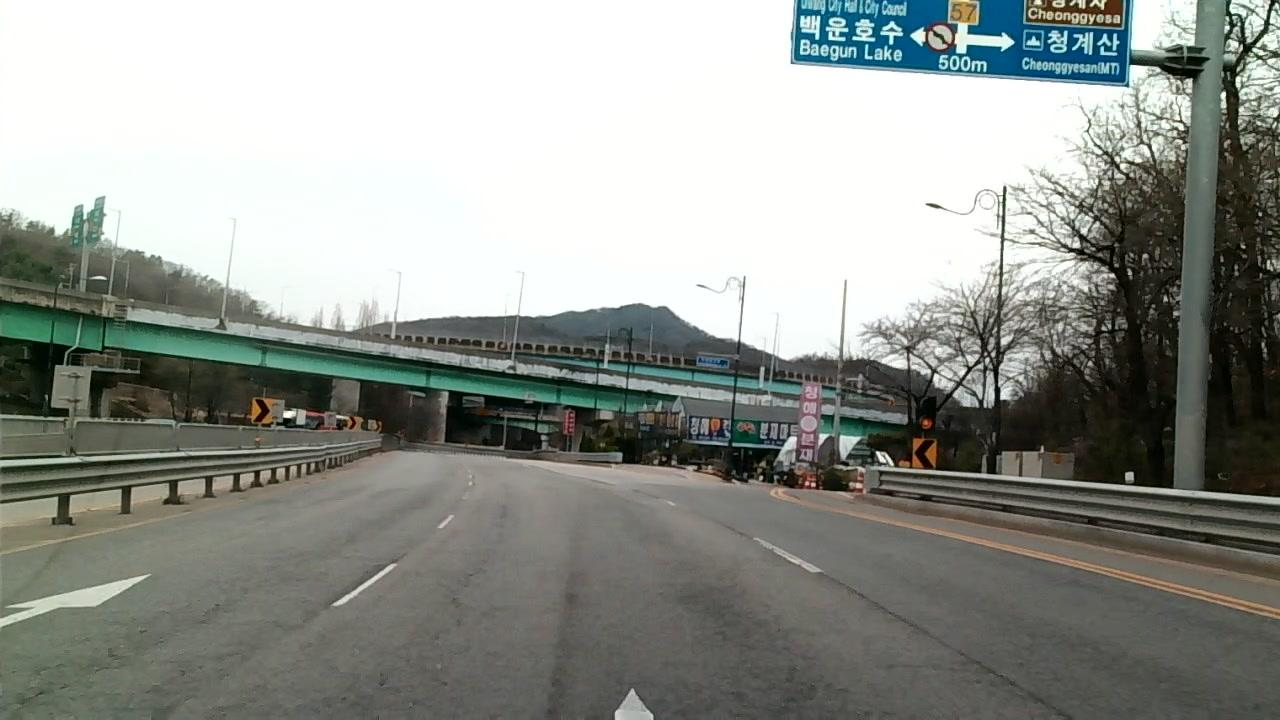erosion: (683, 583, 872, 720)
vcrack: (840, 578, 1076, 720)
